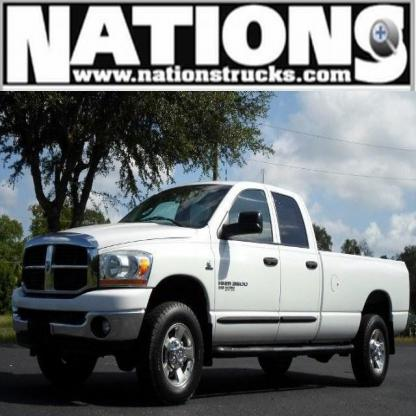Vehicle: (12, 178, 411, 404)
